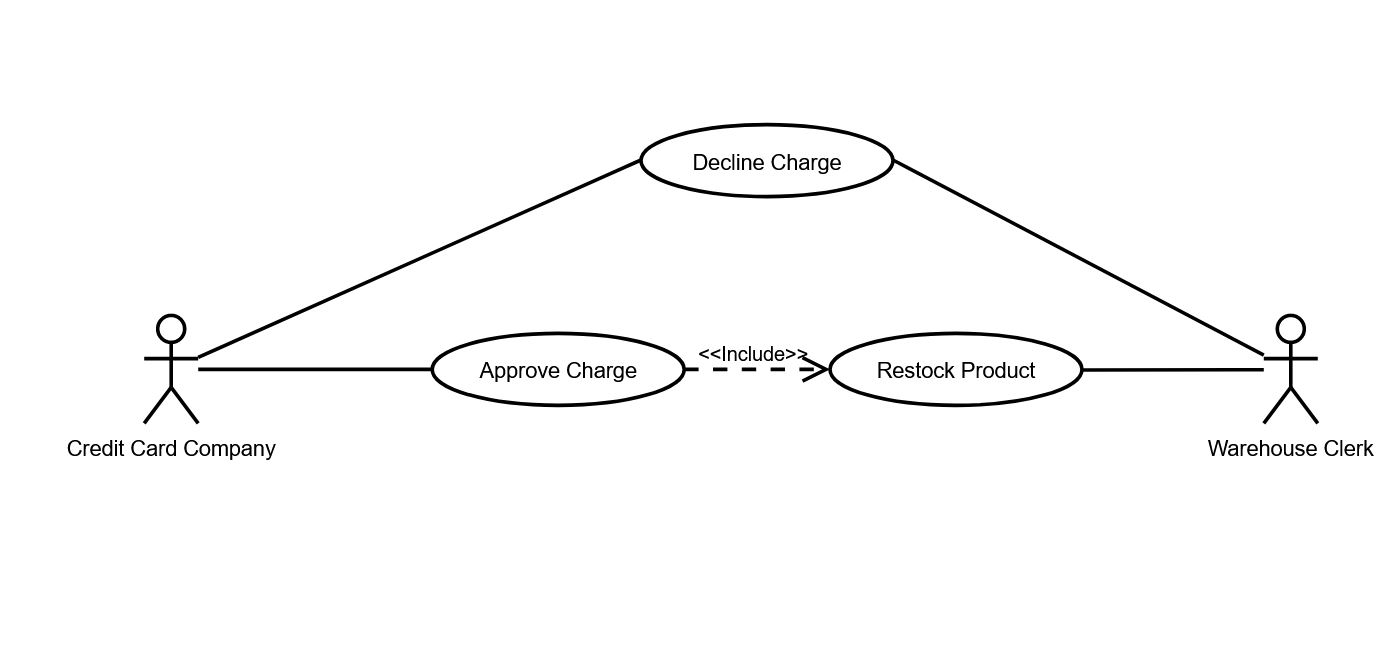actor: (138, 309, 204, 433), (1261, 312, 1323, 429)
association: (200, 160, 640, 357), (895, 155, 1264, 356), (198, 356, 433, 383), (1084, 354, 1262, 384), (684, 354, 827, 384)
text: (67, 433, 288, 469), (476, 354, 644, 387), (1205, 433, 1383, 464), (692, 145, 844, 178), (870, 355, 1046, 383), (686, 339, 809, 361)
use_case: (640, 121, 896, 202), (429, 330, 688, 409), (827, 331, 1084, 409)
